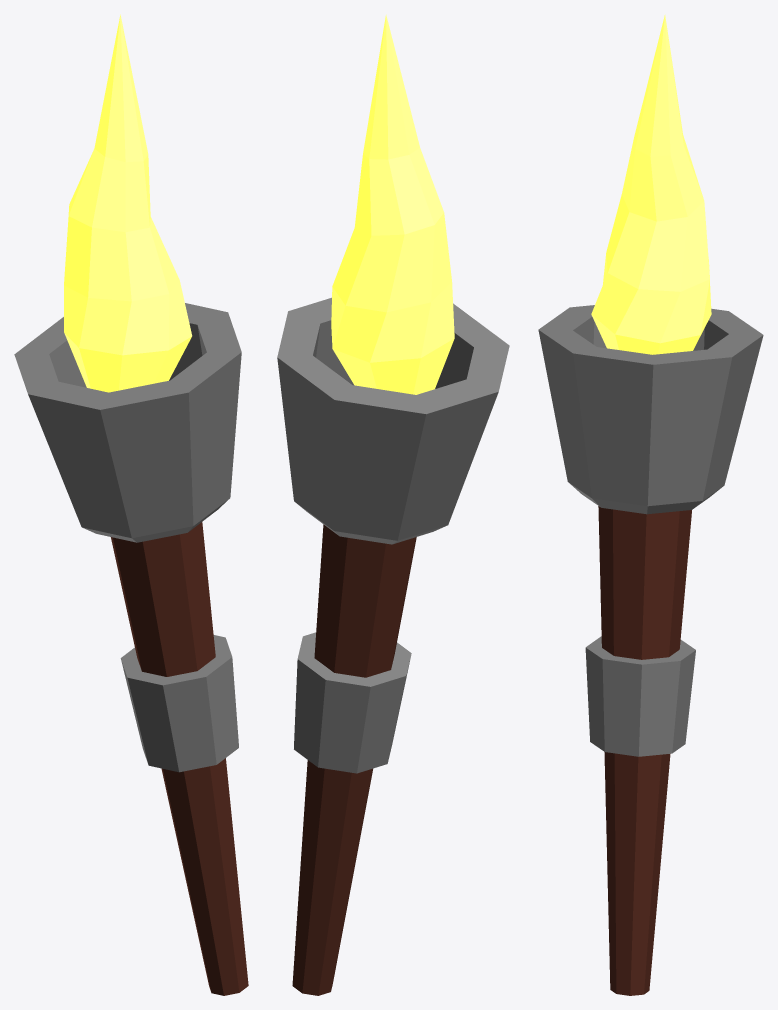
Rendered from Dungeonmeşale1.fbx.
The picture shows the model from 3 angles, left to right: view 1: azimuth 30°, elevation 25°; view 2: azimuth 150°, elevation 25°; view 3: azimuth 270°, elevation 25°; orthographic projection. The views are drawn at different scales.
Parts seen in each view (by area): view 1: Cylinder.003; view 2: Cylinder.003; view 3: Cylinder.003.
Boxes of the visible parts, <box> form: Cylinder.003: <box>14,14,248,995</box>; Cylinder.003: <box>277,14,509,995</box>; Cylinder.003: <box>538,14,763,995</box>.
Bounding box in the file's own units: 22.19 × 99.92 × 21.77.
